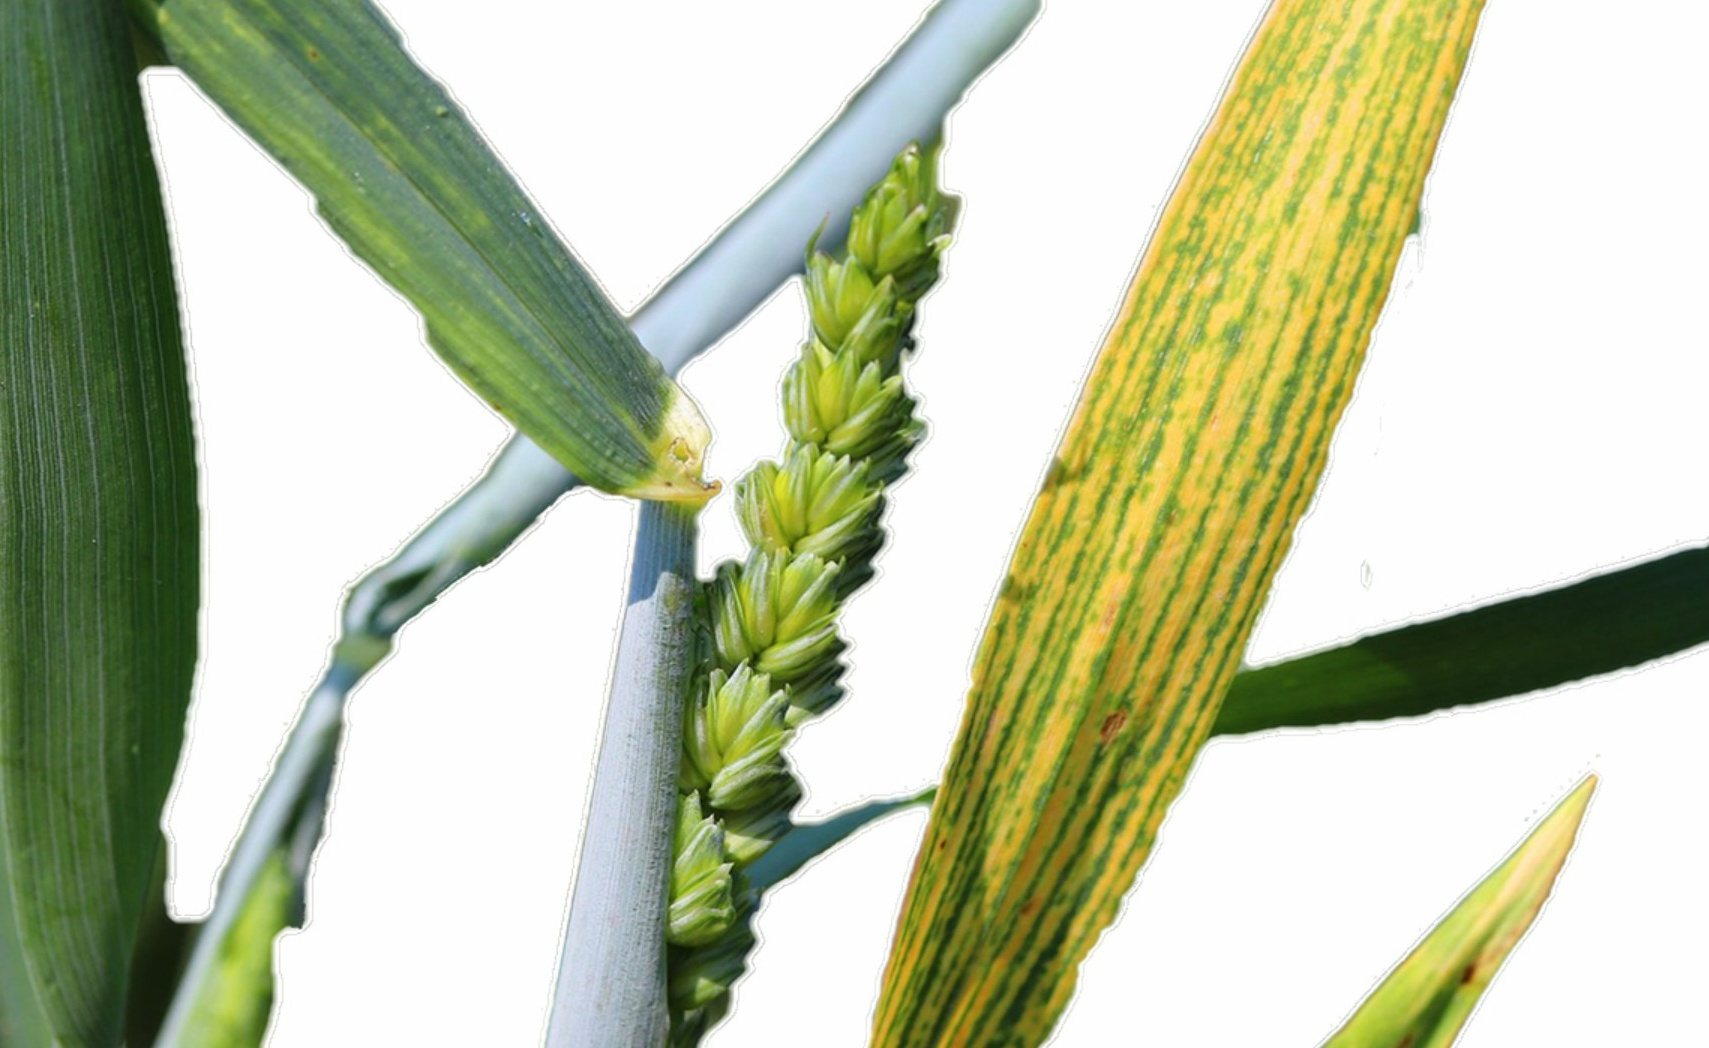wheat: (631, 85, 980, 1048)
